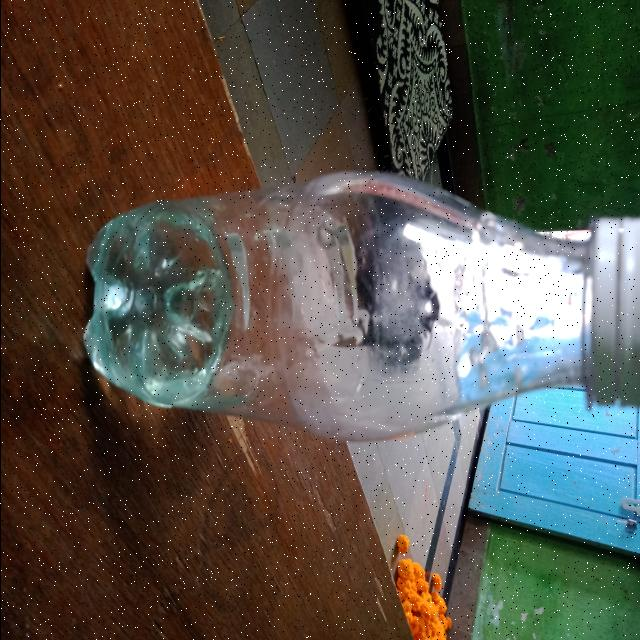plastic: (79, 175, 640, 447)
